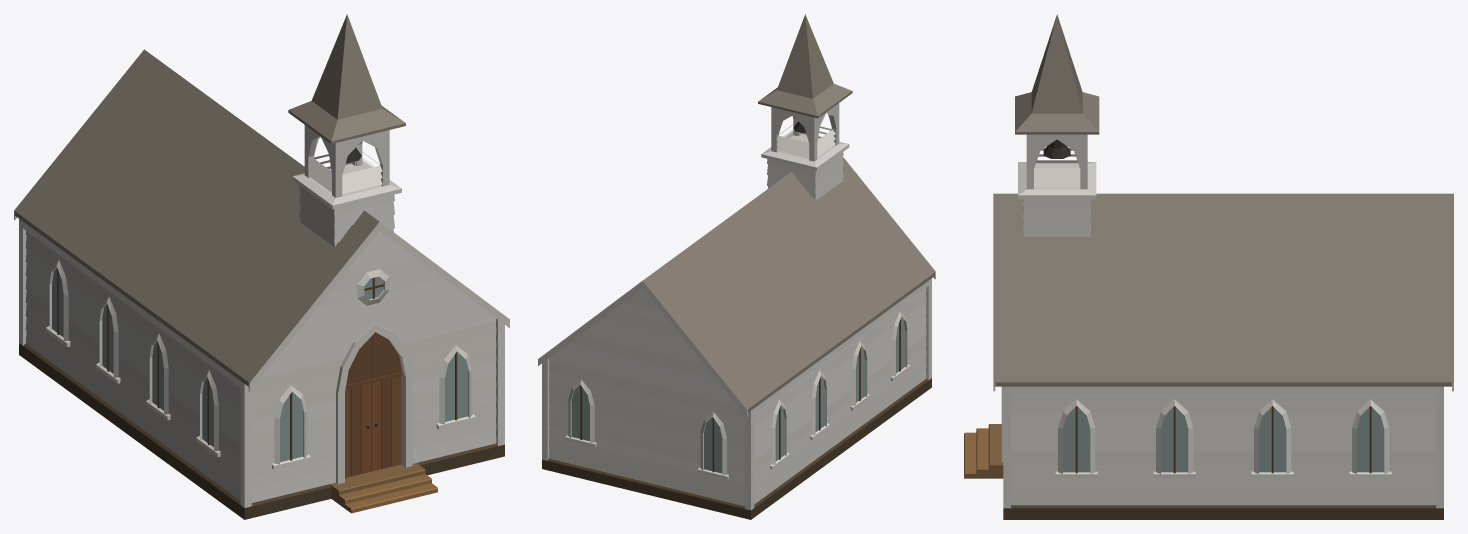
Rendered from clapboard-church-03a6f5.glb.
3 views of the same model, side by side, from view 1: azimuth 30°, elevation 25°; view 2: azimuth 150°, elevation 25°; view 3: azimuth 270°, elevation 25° (orthographic). The views are drawn at different scales.
Parts seen in each view (by area): view 1: church-mesh, door-r-mesh, door-l-mesh; view 2: church-mesh; view 3: church-mesh.
Boxes of the visible parts, x1,y1,x2,y2 form: church-mesh: (14,14,509,519); door-r-mesh: (371,376,401,471); door-l-mesh: (345,383,370,477); church-mesh: (538,14,935,519); church-mesh: (964,14,1453,519).
Bounding box in the file's own units: 6 × 10 × 10.
